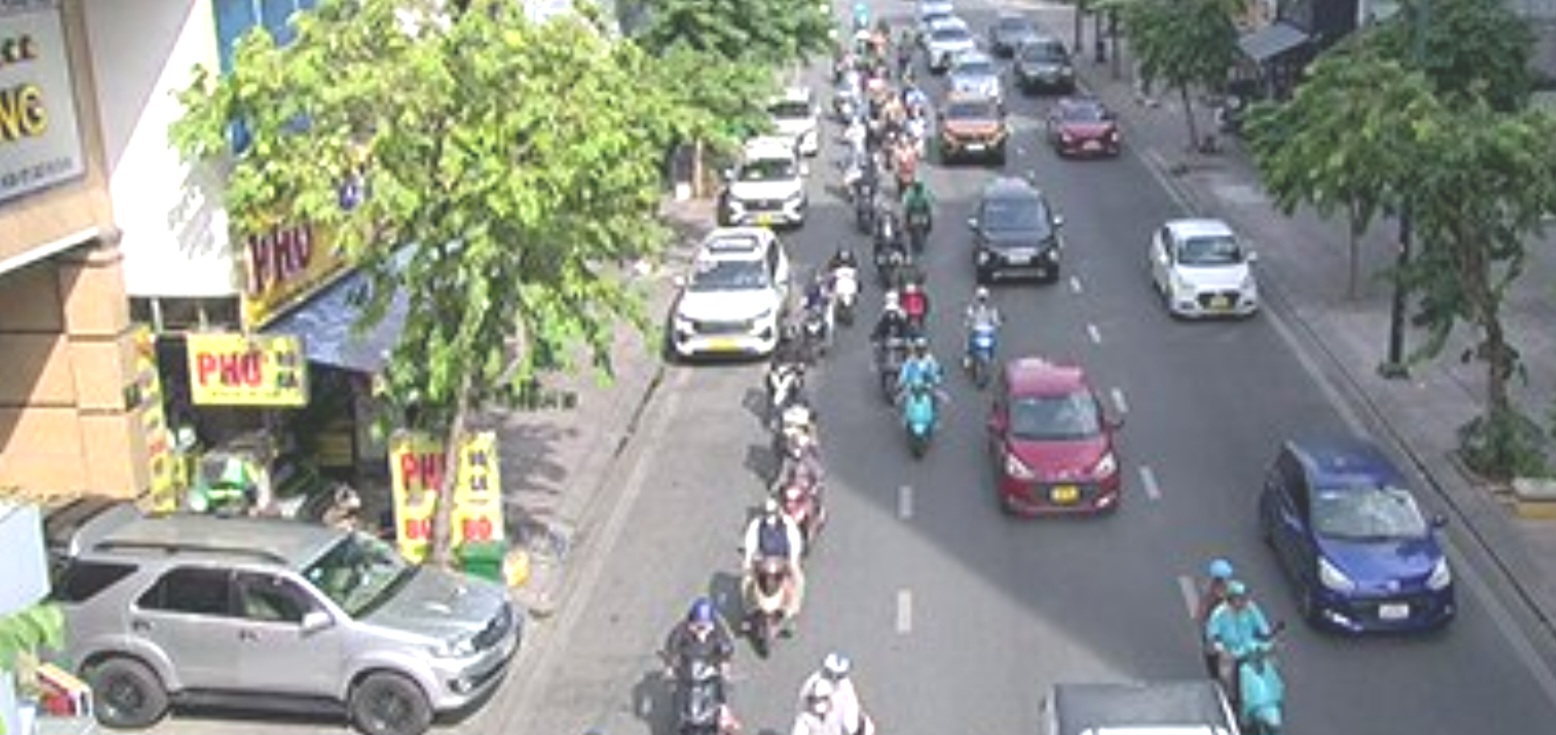car: (1258, 433, 1458, 639), (989, 357, 1125, 517), (674, 230, 788, 363), (1149, 220, 1265, 317), (967, 180, 1064, 286), (727, 138, 809, 230), (937, 91, 1008, 170), (1047, 94, 1123, 160), (1018, 38, 1076, 91)
